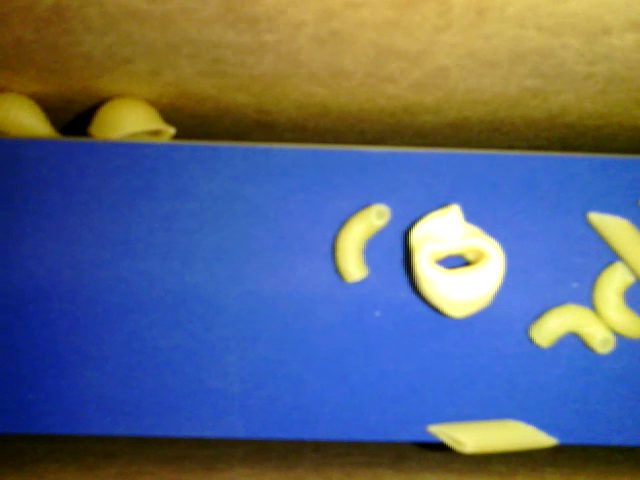elbow: (332, 202, 392, 283), (529, 302, 614, 358), (592, 264, 639, 338)
penne: (425, 424, 557, 453), (589, 210, 639, 283)
shell: (84, 95, 179, 139), (1, 93, 71, 143)
tortellini: (404, 204, 505, 318)
